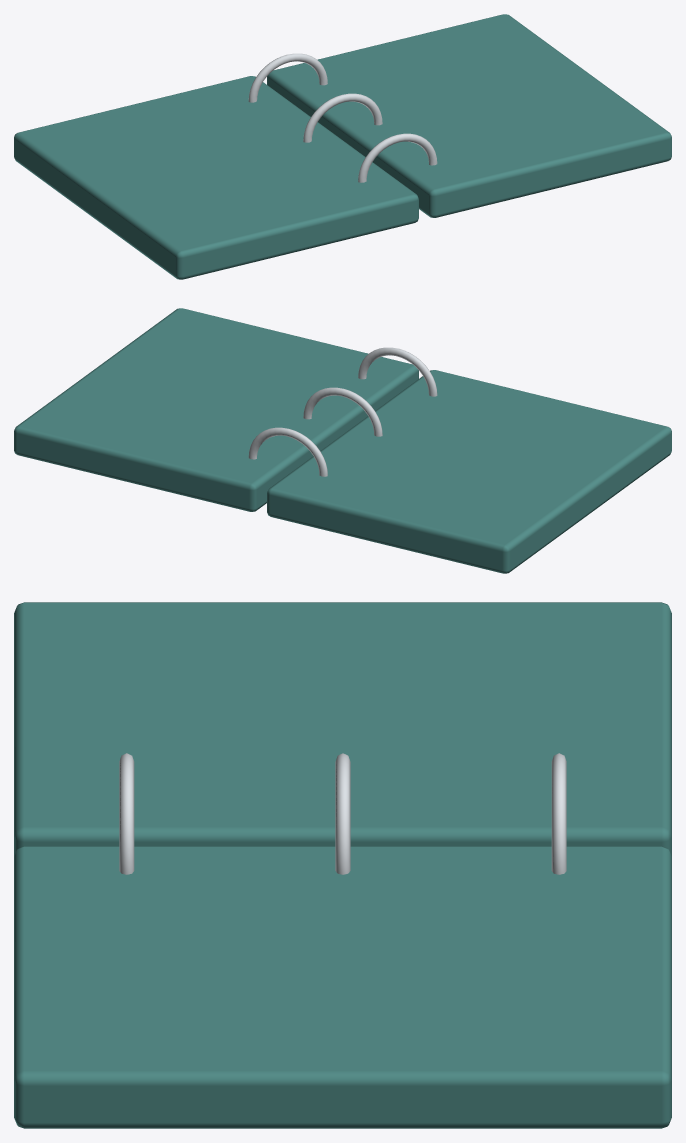
Rendered from wp-classeur-a-anneaux.glb.
3 views of the same model, one above another, from view 1: azimuth 30°, elevation 25°; view 2: azimuth 150°, elevation 25°; view 3: azimuth 270°, elevation 25° (orthographic). The views are drawn at different scales.
Visible parts, largest first — view 1: wp-classeur-a-anneaux; view 2: wp-classeur-a-anneaux; view 3: wp-classeur-a-anneaux.
Boxes of the visible parts, box(x1,y1,x2,y2) form: wp-classeur-a-anneaux: box(14, 14, 671, 279); wp-classeur-a-anneaux: box(14, 308, 671, 573); wp-classeur-a-anneaux: box(14, 602, 671, 1128).
Size of the model in its own units: 0.55 by 0.08 by 0.32.
